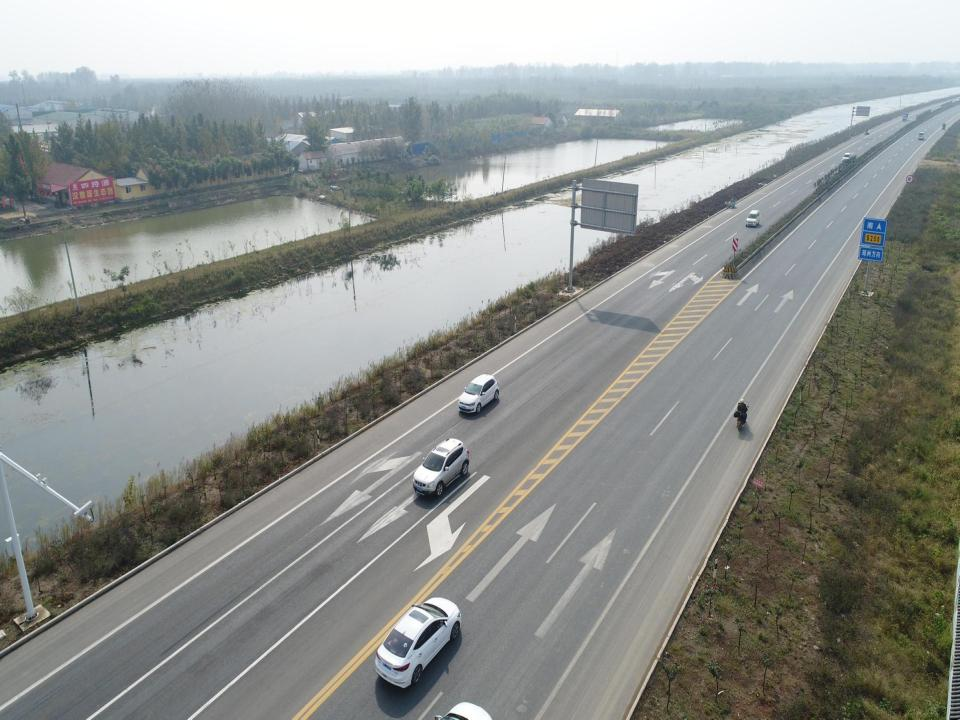car: (375, 598, 462, 690), (412, 438, 468, 499), (458, 374, 499, 416), (842, 152, 856, 163), (918, 132, 924, 140)
truck: (901, 113, 908, 121)
van: (746, 209, 761, 228)
